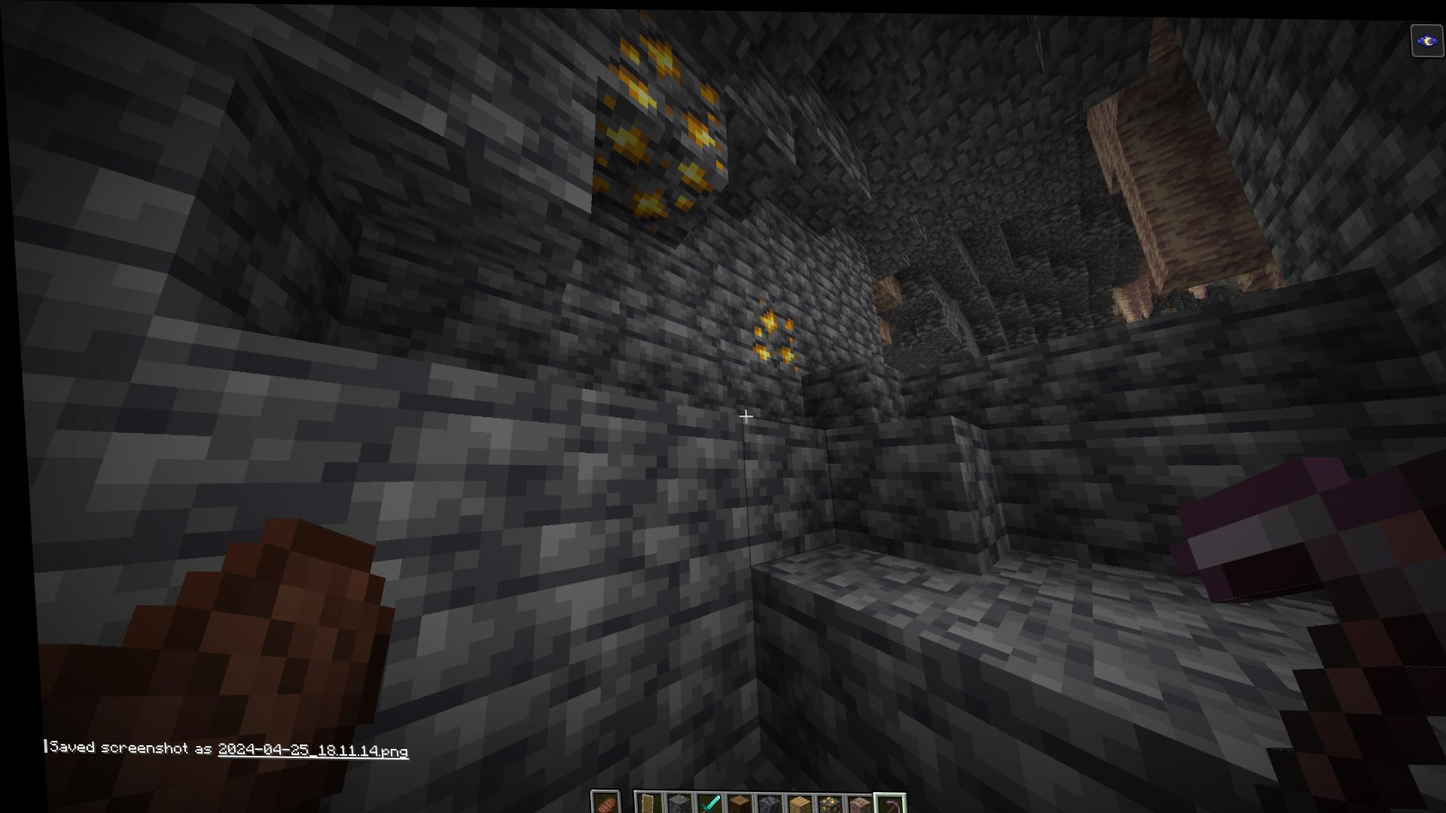gold ore: (576, 108, 723, 232), (611, 9, 732, 155), (745, 293, 798, 366)
